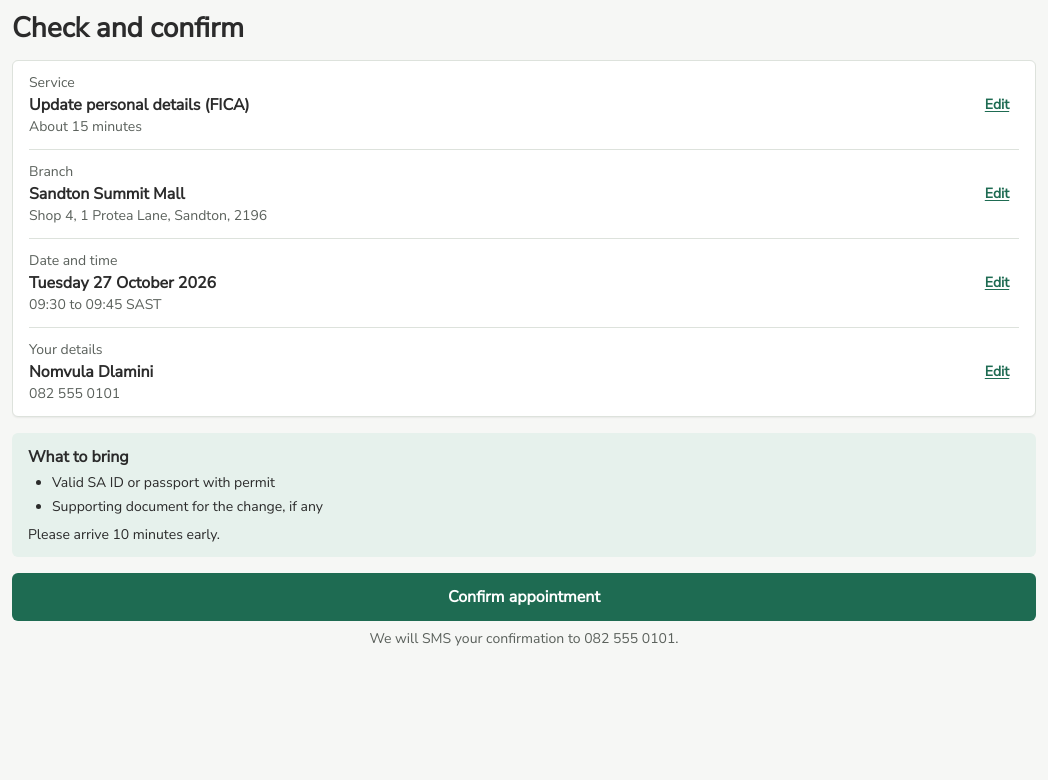
Test case: ReviewStep › words DUPLICATE_APPOINTMENT by its code, with where to go next
Click the button "Confirm appointment": coordinates (524, 597) [12,573,1036,621]
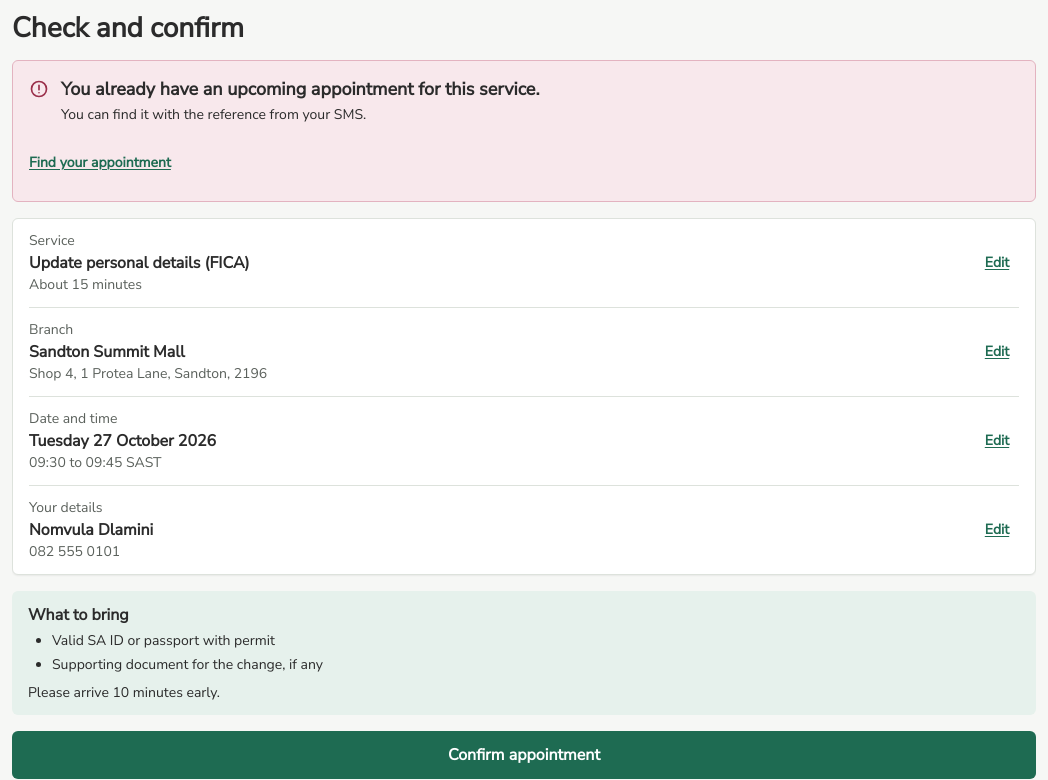
Check: the message shows "You already have an upcoming appointment for this service.", box [61,77,540,101]
